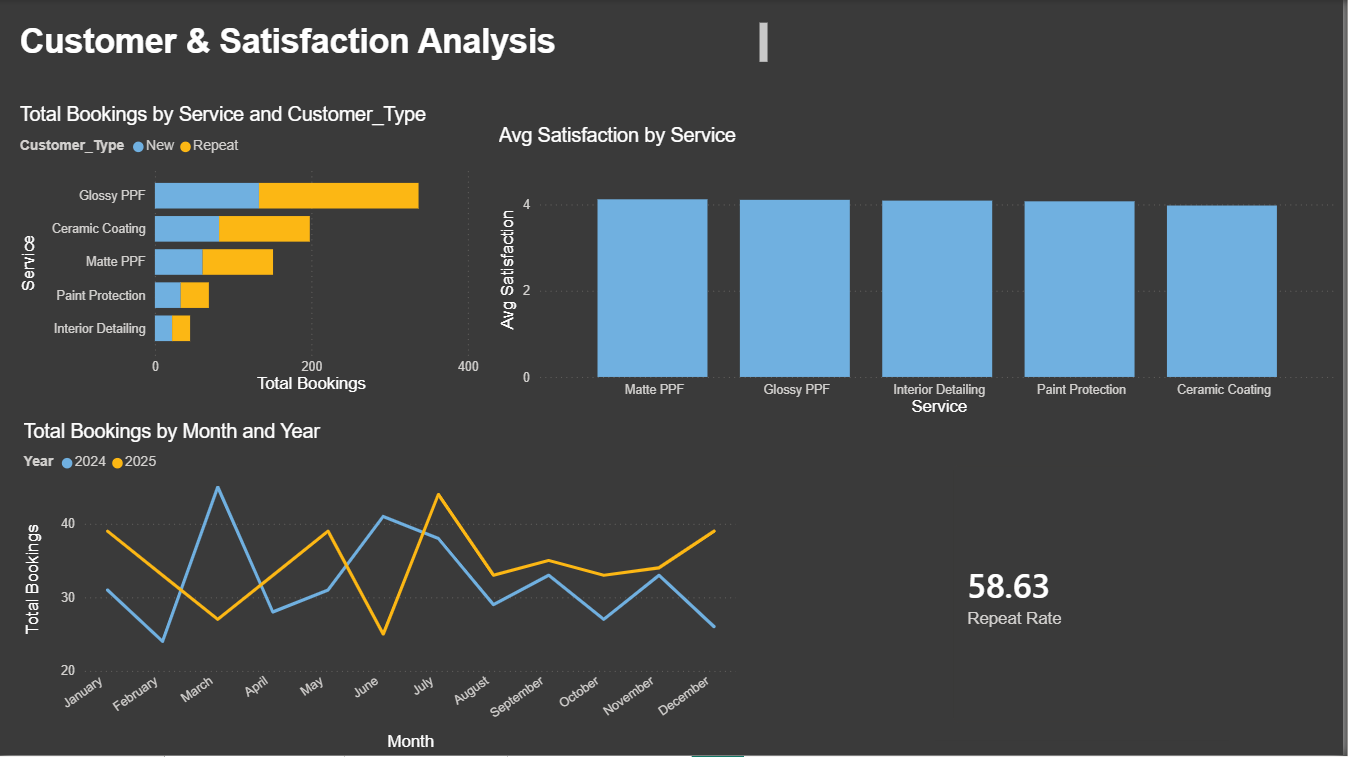

The page's visual inventory and layout, read from the dashboard file:
{"tool":"powerbi","page":{"name":"Customer Analysis","canvas":[1280,720],"ordinal":2},"visuals":[{"type":"barChart","fields":{"Category":["Sheet1.Service"],"Y":["Sheet1.Total Bookings"],"Series":["Sheet1.Customer_Type"]},"box":[14,98.9,447.8,280.3],"z":0},{"type":"clusteredColumnChart","fields":{"Category":["Sheet1.Service"],"Y":["Sheet1.Avg Satisfaction"]},"box":[470.6,119.2,809.3,281.6],"z":1},{"type":"lineChart","fields":{"Category":["Sheet1.Month"],"Y":["Sheet1.Total Bookings"],"Series":["Sheet1.Year"]},"box":[17.8,400.8,688.8,319.7],"z":2},{"type":"cardVisual","fields":{"Data":["Sheet1.Repeat Rate"]},"box":[891.7,426.2,279.1,279.1],"z":3},{"type":"textbox","box":[1102,379,169,279],"z":4},{"type":"textbox","box":[14,16.5,723,54.5],"z":5}]}

Visuals, with their boxes in screenshot pixels (x1, y1, x2, y2), scaled from the page's 1280x720 canvas onto the 1348x757 screenshot:
barChart - Sheet1.Service x Sheet1.Total Bookings: region(15, 104, 486, 399)
clusteredColumnChart - Sheet1.Service x Sheet1.Avg Satisfaction: region(496, 125, 1347, 421)
lineChart - Sheet1.Month x Sheet1.Total Bookings: region(19, 421, 744, 756)
cardVisual - Sheet1.Repeat Rate: region(939, 448, 1233, 742)
textbox: region(1161, 398, 1339, 692)
textbox: region(15, 17, 776, 75)
